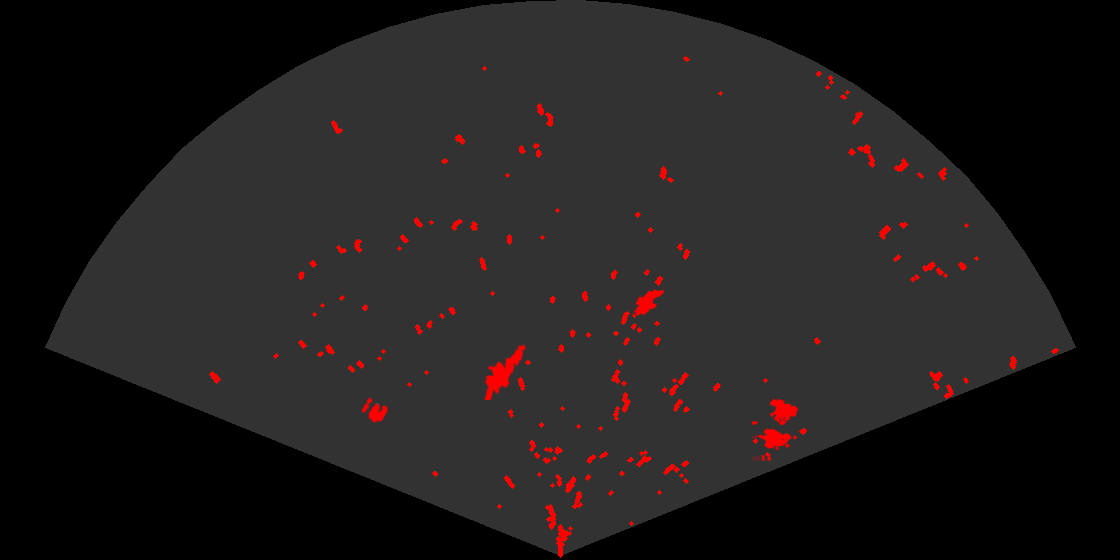AUV: (633, 288, 666, 317)
ball: (360, 396, 390, 424)
cage: (752, 397, 800, 461)
frogman: (482, 342, 527, 400)
